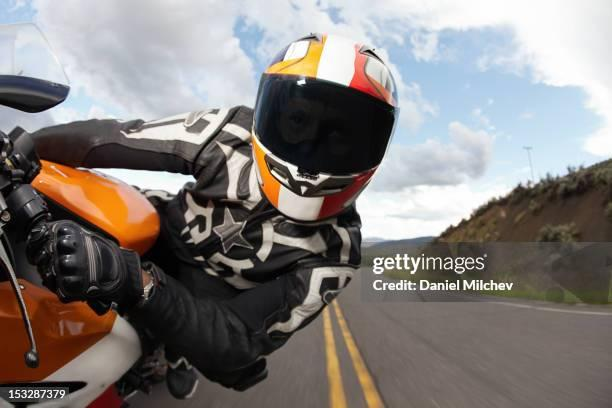Helmet: (252, 34, 398, 224)
